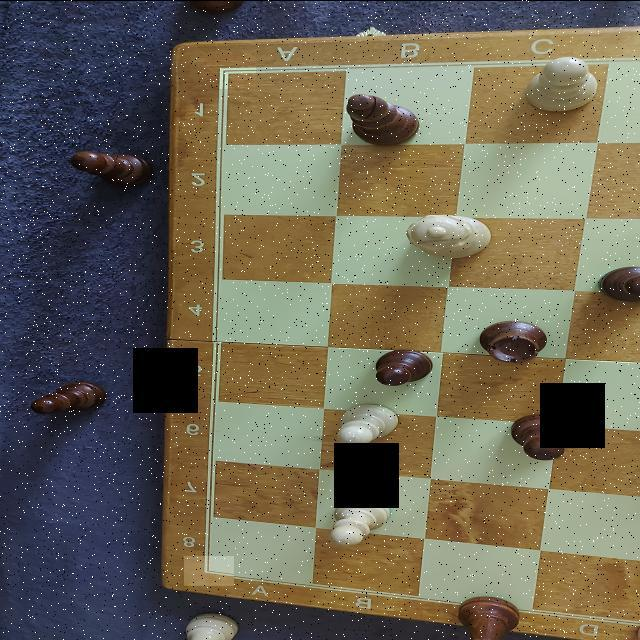chess-table-corners: (202, 52, 256, 88), (184, 556, 234, 586)
